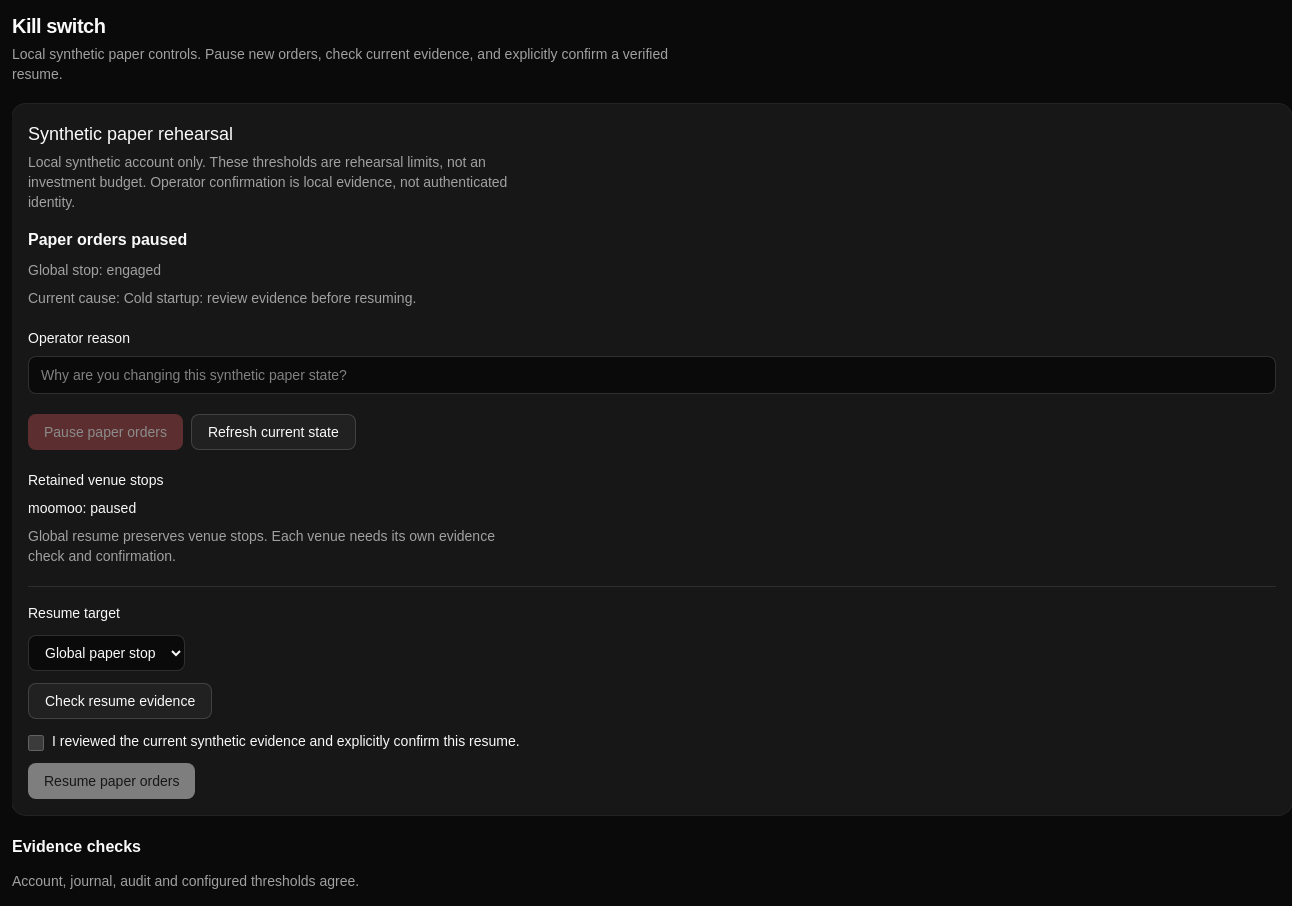
it: mirrors verified pause and resume state into the existing shell query cache
Expected: the heading "Paper orders paused" is shown, [28,228,187,252]
Click the button "Check resume evidence": (120, 701) [28,683,212,719]
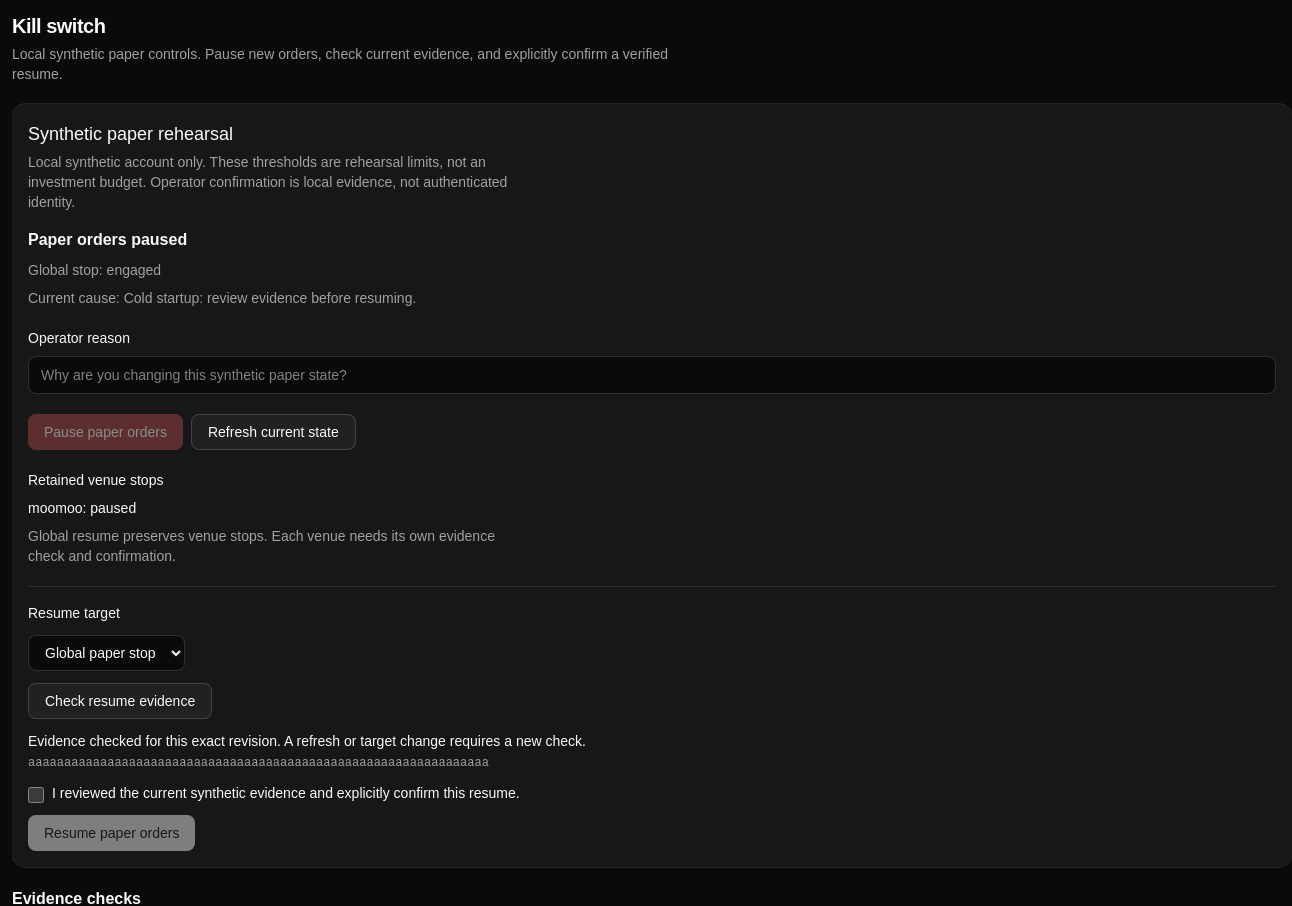
In the field labelled "Operator reason": (652, 375) [28,356,1276,394], type "Reviewed"
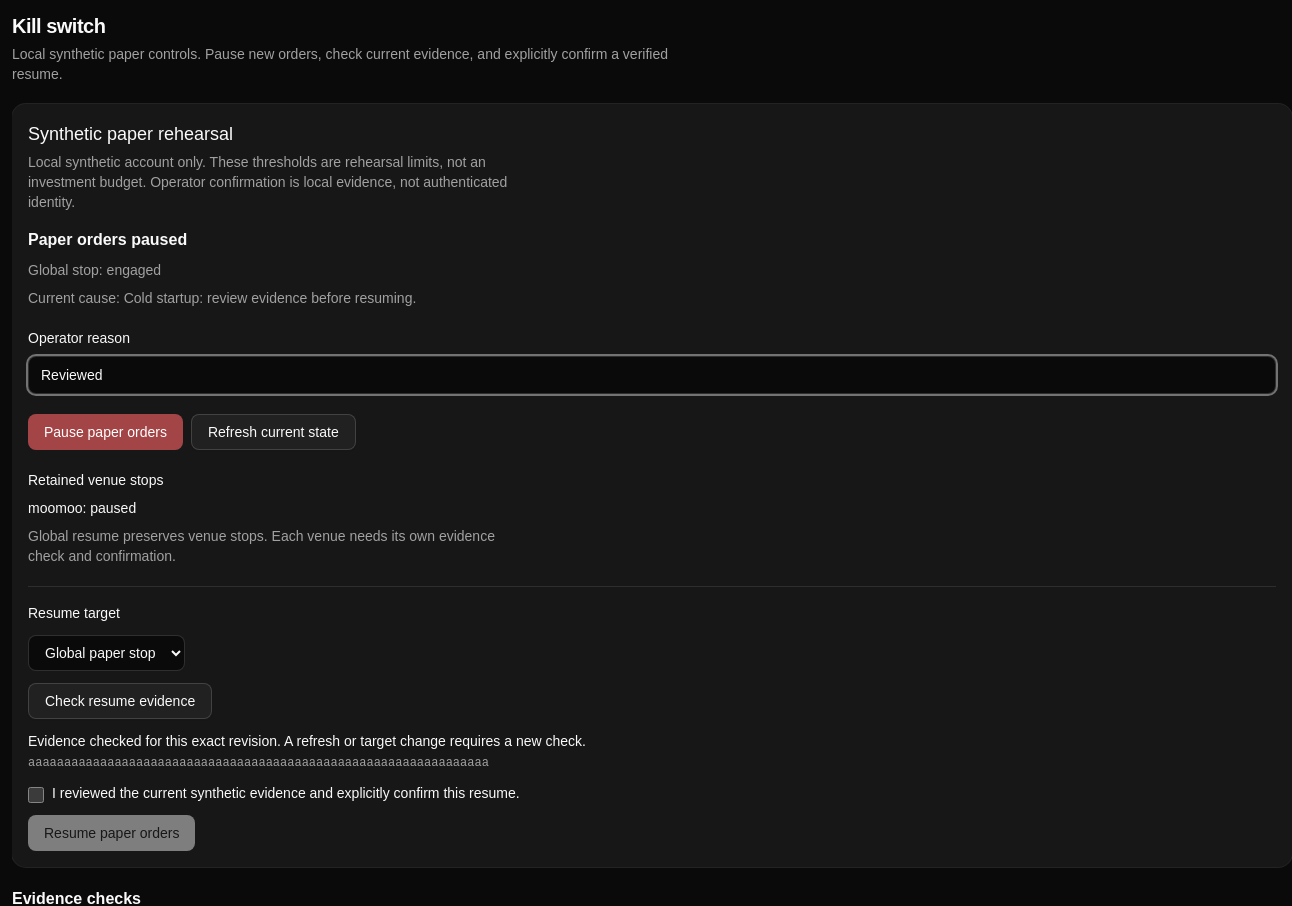
Click the checkbox labelled "I reviewed": (36, 795) [28,787,44,803]
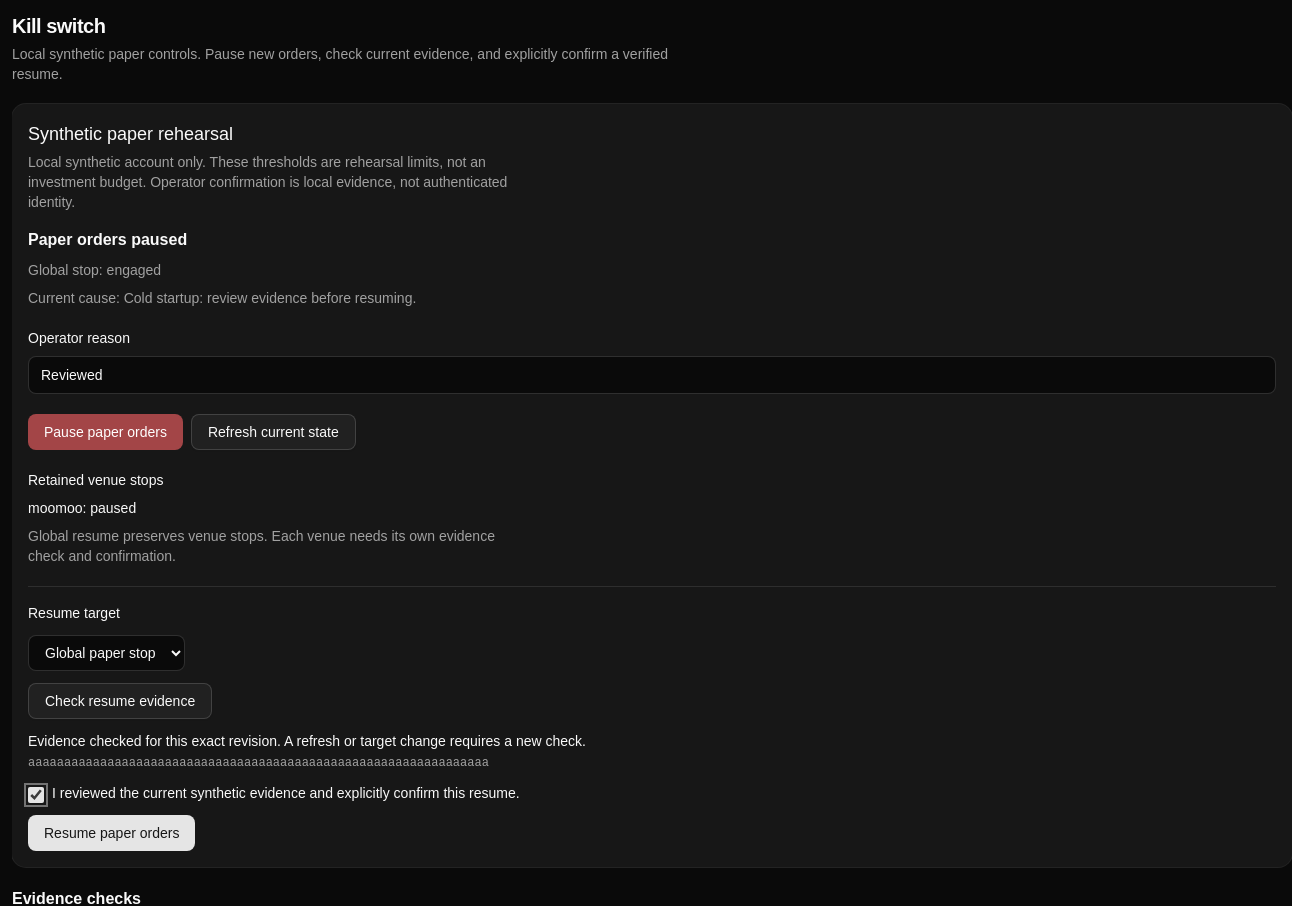
Click the button "Resume paper orders": (112, 833) [28,815,195,851]
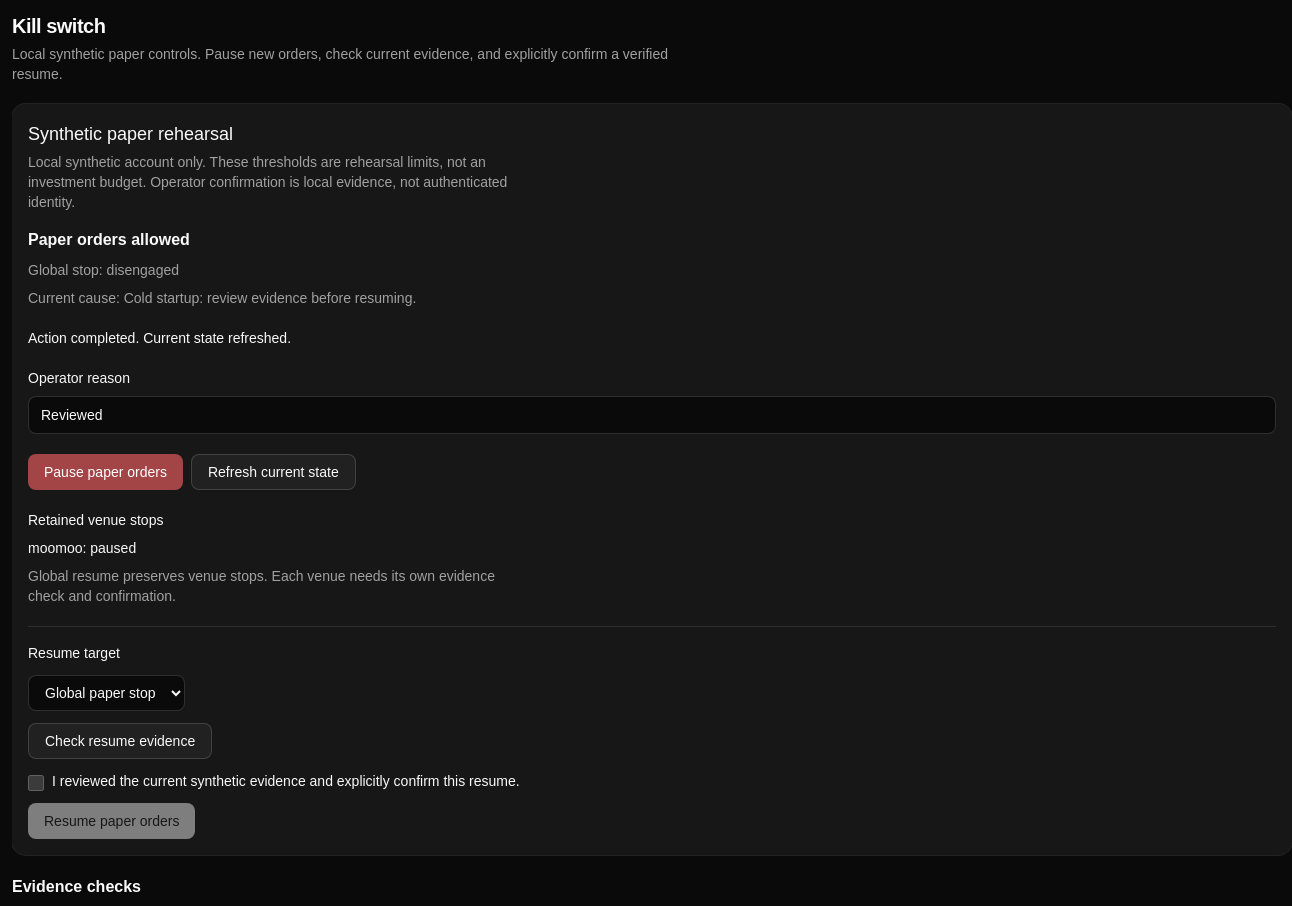
Expected: the heading "Paper orders allowed" is shown, [28,228,190,252]
